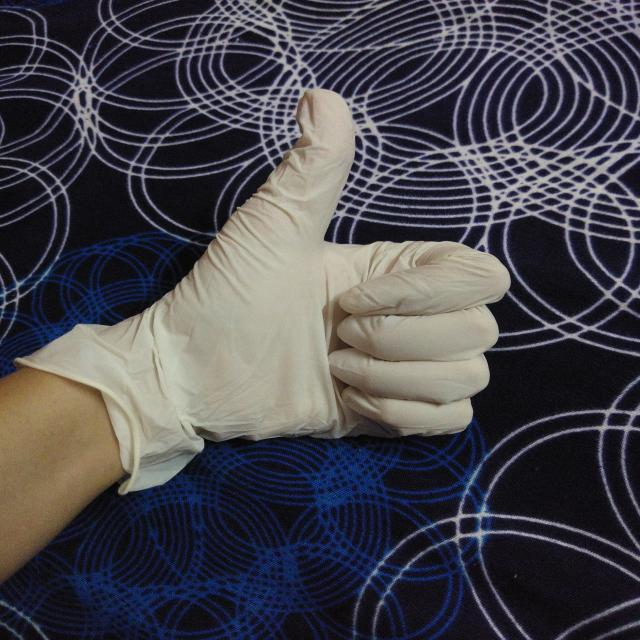glove_hand: (12, 81, 514, 510)
